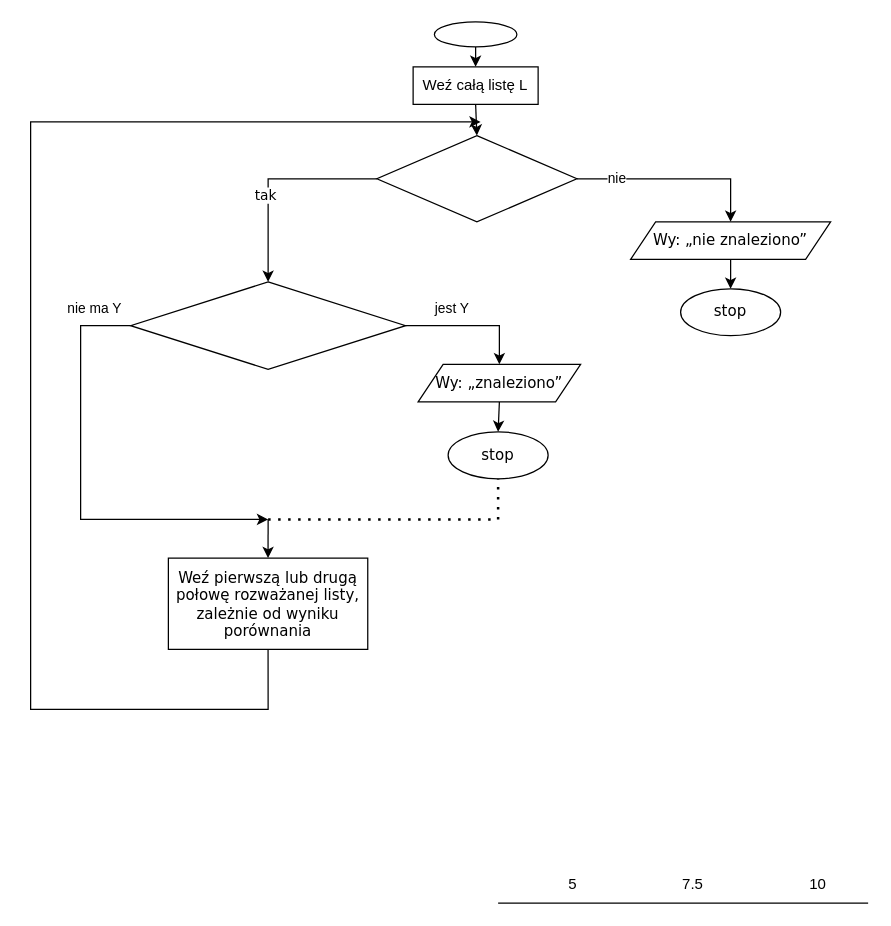
This 891x926 diagram has some shape labels left out. The centre of each missing label's shape, as x and y in pixels:
"Czy rozważana lista nie jest pusta?" belongs at point 476,178.
"Porównaj Y ze środkowym elementem rozważanej listy" belongs at point 267,325.
"Start" belongs at point 475,34.
